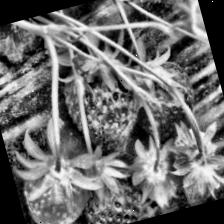Powdery Mildew Fruit: (16, 146, 101, 224)
